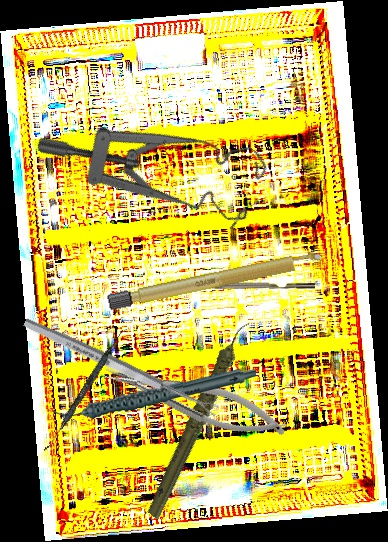Chopper: (165, 280, 316, 297)
Handpiece: (111, 319, 291, 521), (51, 364, 257, 423)
Needle Holder: (100, 348, 291, 451)
Scalpel Handle: (106, 248, 328, 312)
Spatula Surgical: (43, 327, 125, 455)
Speculum: (33, 46, 281, 269)
Surgical Spoon: (21, 315, 221, 419)
